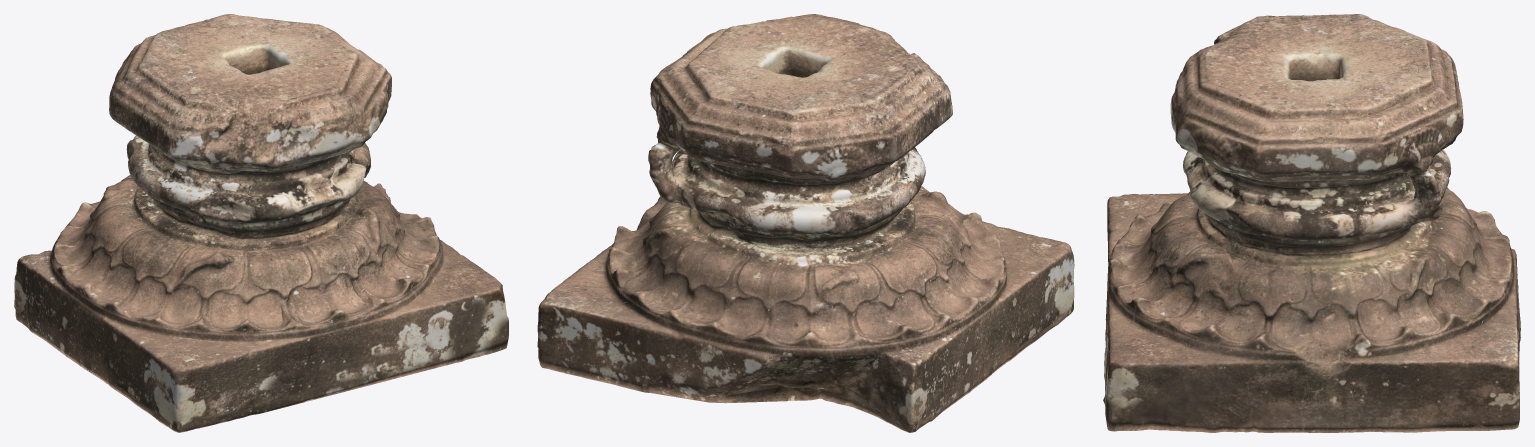
File: 41_MysonSanctuaryB_Detru_final.glb
3 renders of one model, left to right at view 1: azimuth 30°, elevation 25°; view 2: azimuth 150°, elevation 25°; view 3: azimuth 270°, elevation 25°, orthographic. The views are drawn at different scales.
Bounding box in the file's own units: 0.9966 × 0.7485 × 0.9741.
1 material, 1 textured.
